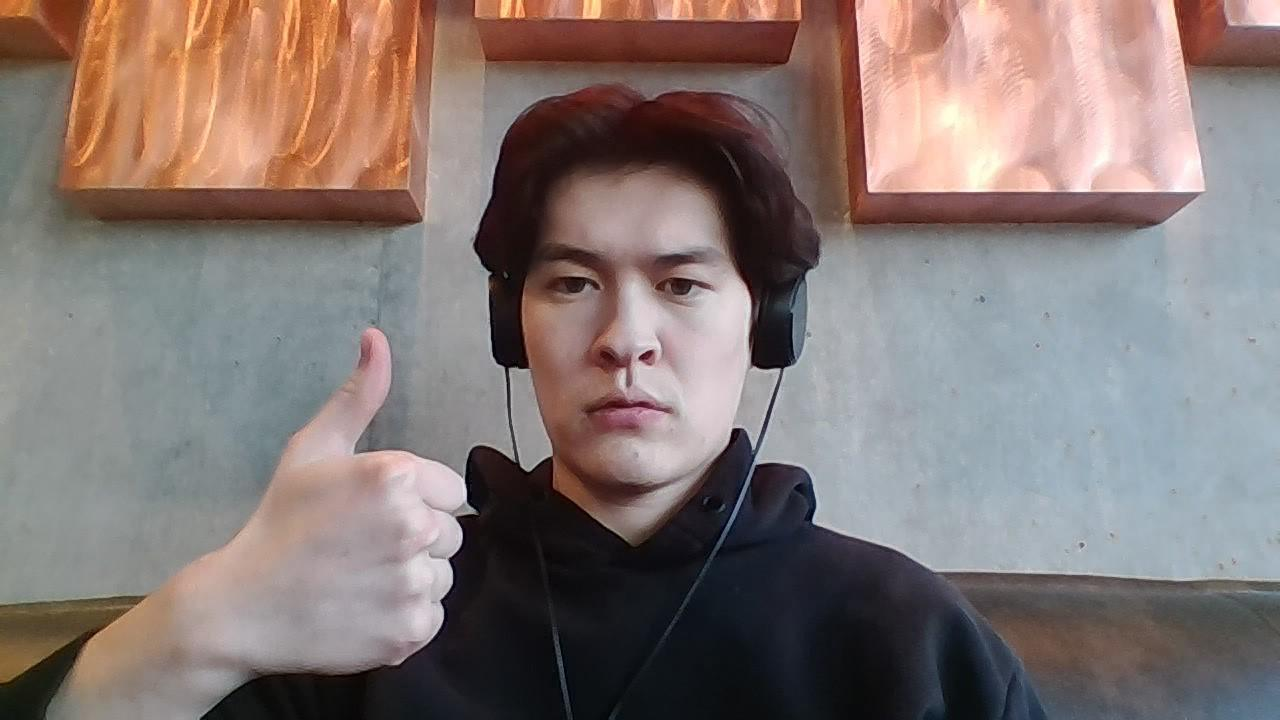thumbsUp: (229, 327, 469, 677)
